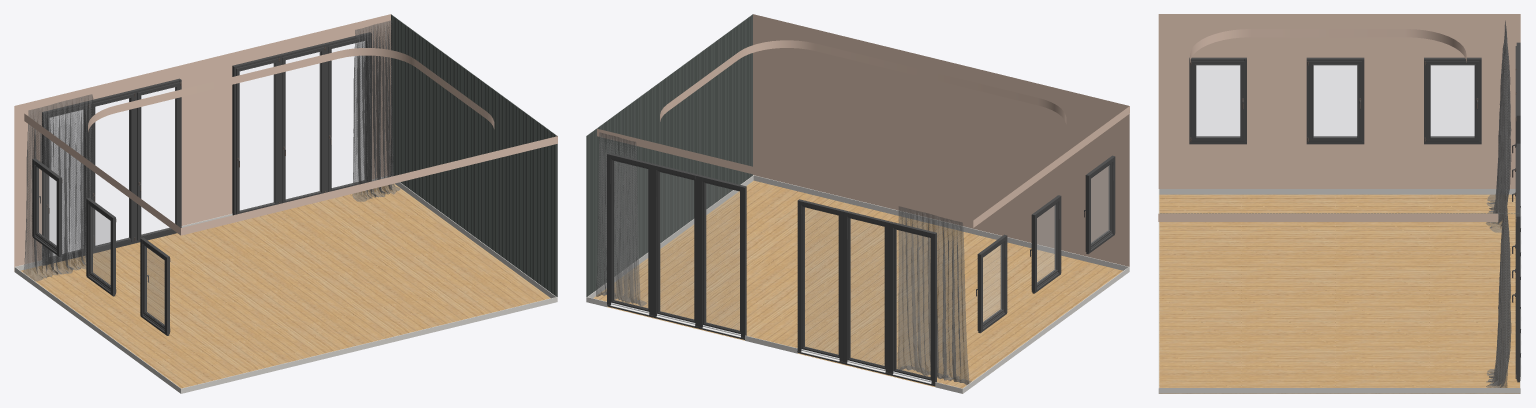
The model's file is living-room.glb.
3 renders of one model, left to right at view 1: azimuth 30°, elevation 25°; view 2: azimuth 150°, elevation 25°; view 3: azimuth 270°, elevation 25°, orthographic. The views are drawn at different scales.
Visible parts, largest first — view 1: floor, right_wall, front_wall, AI58_003_curtain_003, ceiling, AI58_003_curtain_001, AM109_008_019.003, AI58_10_widows003, AI58_10_widows002, AI58_10_widows006, AI58_10_widows004, AI58_10_widows1 (+17 smaller); view 2: back_wall, floor, right_wall, AI58_003_curtain_003, ceiling, AM109_008_019.003, AI58_003_curtain_001, AI58_10_widows1, AI58_10_widows002, AI58_10_widows003, AI58_10_widows004, AI58_10_widows005 (+21 smaller); view 3: floor, left_wall, ceiling, AM109_008_019.003, AM109_008_012.007, AM109_008_012.011, AM109_008_012.009, AI58_003_curtain_003, AI58_003_curtain_001, AM109_008_012.010, AM109_008_012.006, AM109_008_012.008 (+5 smaller).
Boxes of the visible parts, x1,y1,x2,y2 form: floor: [20, 183, 550, 388]; right_wall: [391, 14, 557, 296]; front_wall: [14, 14, 390, 271]; AI58_003_curtain_003: [23, 94, 93, 281]; ceiling: [24, 48, 557, 235]; AI58_003_curtain_001: [352, 20, 400, 201]; AM109_008_019.003: [14, 54, 557, 393]; AI58_10_widows003: [240, 64, 273, 210]; AI58_10_widows002: [286, 52, 319, 199]; AI58_10_widows006: [142, 87, 175, 234]; AI58_10_widows004: [96, 99, 129, 240]; AI58_10_widows1: [332, 44, 354, 188]; back_wall: [753, 14, 1129, 266]; floor: [593, 180, 1123, 388]; right_wall: [586, 14, 752, 296]; AI58_003_curtain_003: [897, 206, 971, 385]; ceiling: [597, 40, 1129, 227]; AM109_008_019.003: [586, 175, 1129, 393]; AI58_003_curtain_001: [596, 132, 646, 306]; AI58_10_widows1: [614, 161, 647, 307]; AI58_10_widows002: [660, 172, 693, 318]; AI58_10_widows003: [706, 184, 739, 330]; AI58_10_widows004: [851, 219, 883, 365]; AI58_10_widows005: [897, 230, 929, 376]; floor: [1159, 194, 1519, 393]; left_wall: [1158, 14, 1520, 188]; ceiling: [1158, 29, 1498, 221]; AM109_008_019.003: [1158, 143, 1521, 393]; AM109_008_012.007: [1196, 65, 1240, 137]; AM109_008_012.011: [1430, 65, 1474, 137]; AM109_008_012.009: [1313, 65, 1357, 137]; AI58_003_curtain_003: [1486, 20, 1511, 232]; AI58_003_curtain_001: [1486, 191, 1511, 387]; AM109_008_012.010: [1424, 61, 1479, 141]; AM109_008_012.006: [1190, 61, 1244, 141]; AM109_008_012.008: [1307, 61, 1361, 141].
Size of the model in its own units: 7.74 by 3.27 by 5.95.
Materials: 18 (15 with a texture image).
